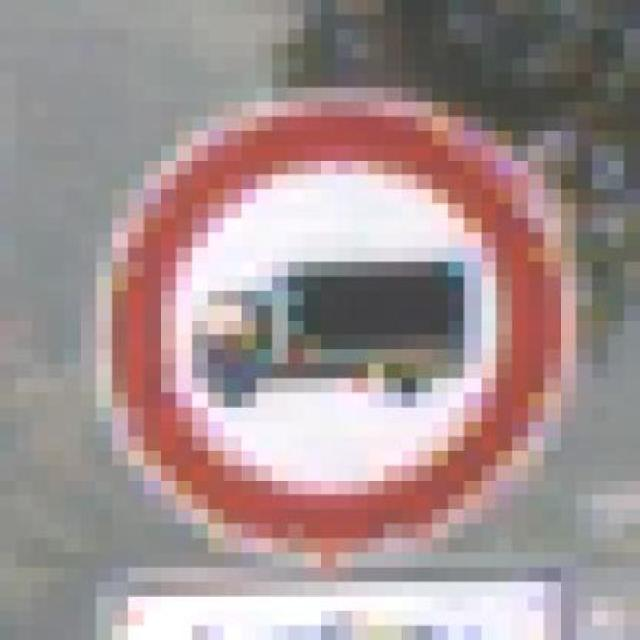Truck traffic is prohibited: (64, 59, 576, 568)
